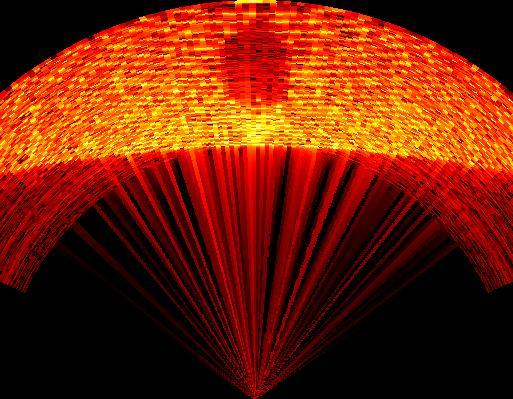box_crate: (214, 16, 293, 108)
